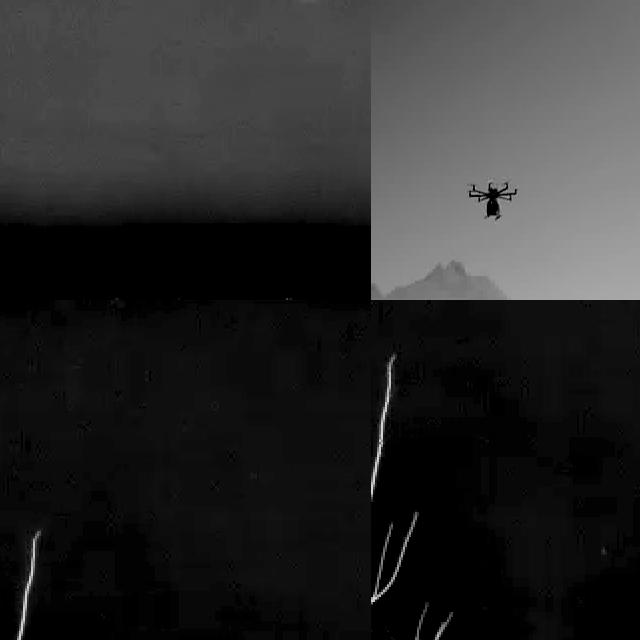0: (594, 537, 620, 567)
1: (292, 0, 328, 8)
drone: (468, 173, 520, 223)
